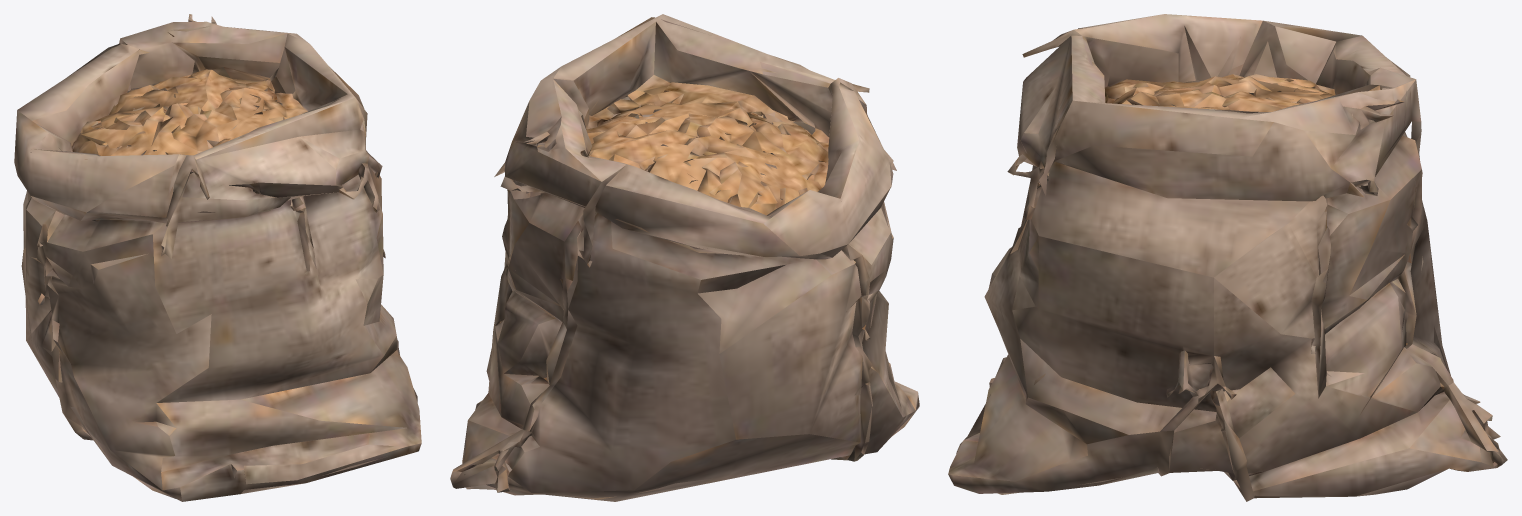
The picture shows the model from 3 angles, left to right: view 1: azimuth 30°, elevation 25°; view 2: azimuth 150°, elevation 25°; view 3: azimuth 270°, elevation 25°; orthographic projection. The views are drawn at different scales.
Visible parts, largest first — view 1: geometry_0; view 2: geometry_0; view 3: geometry_0.
Boxes of the visible parts, x1,y1,x2,y2 form: geometry_0: [14, 14, 421, 501]; geometry_0: [450, 14, 919, 501]; geometry_0: [948, 14, 1507, 501].
Bounding box in the file's own units: 0.5985 × 0.586 × 0.7441.
Materials: 1 (1 with a texture image).
